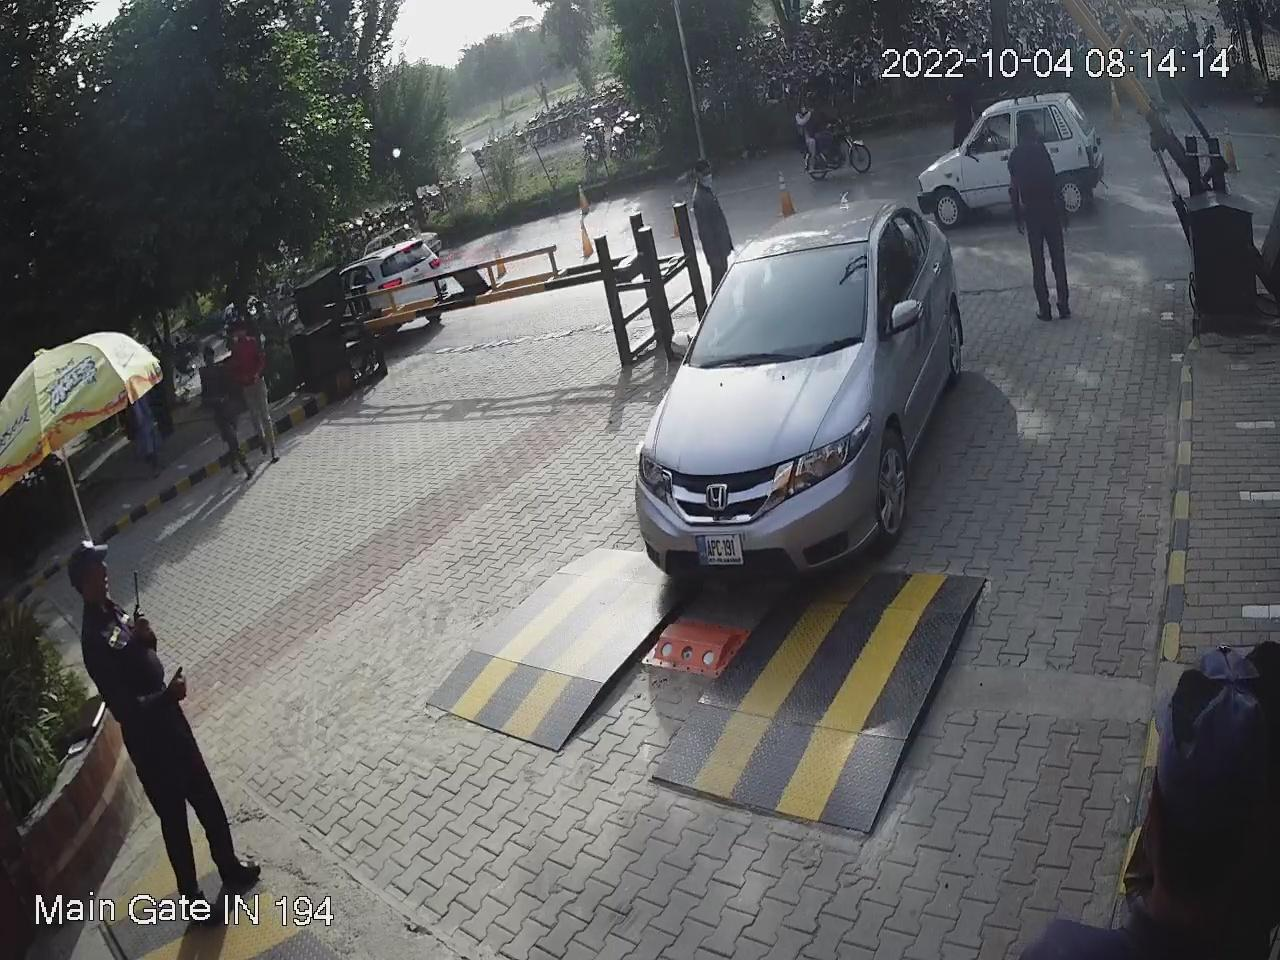windshield: (683, 235, 885, 365)
